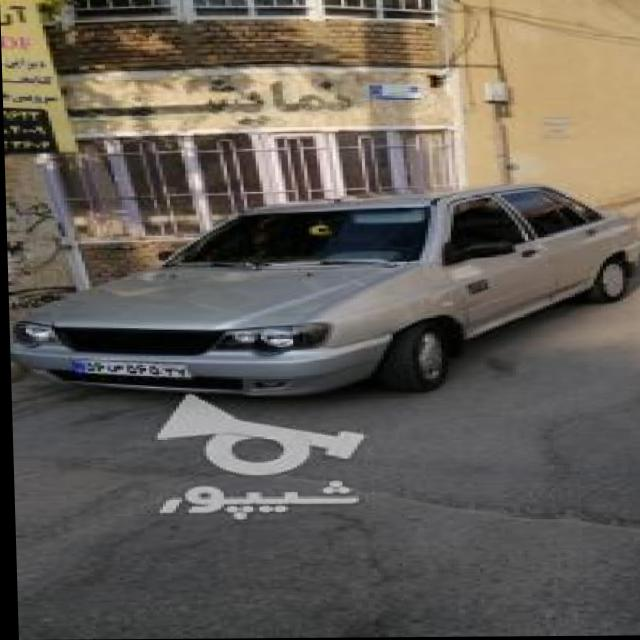licence: (63, 354, 186, 375)
